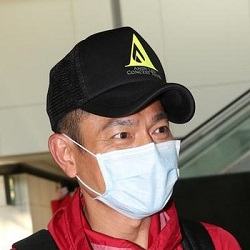mask: (68, 134, 187, 219)
